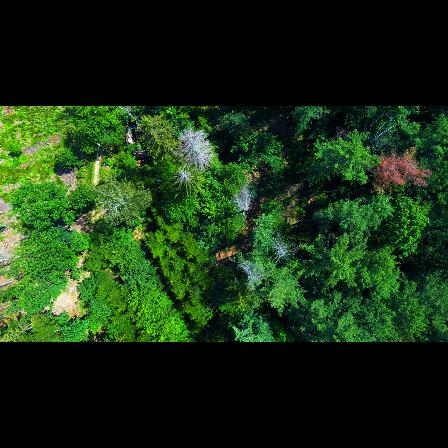Dead: (178, 126, 219, 171), (269, 230, 300, 261), (231, 181, 258, 216)
Sick: (174, 166, 197, 187)
